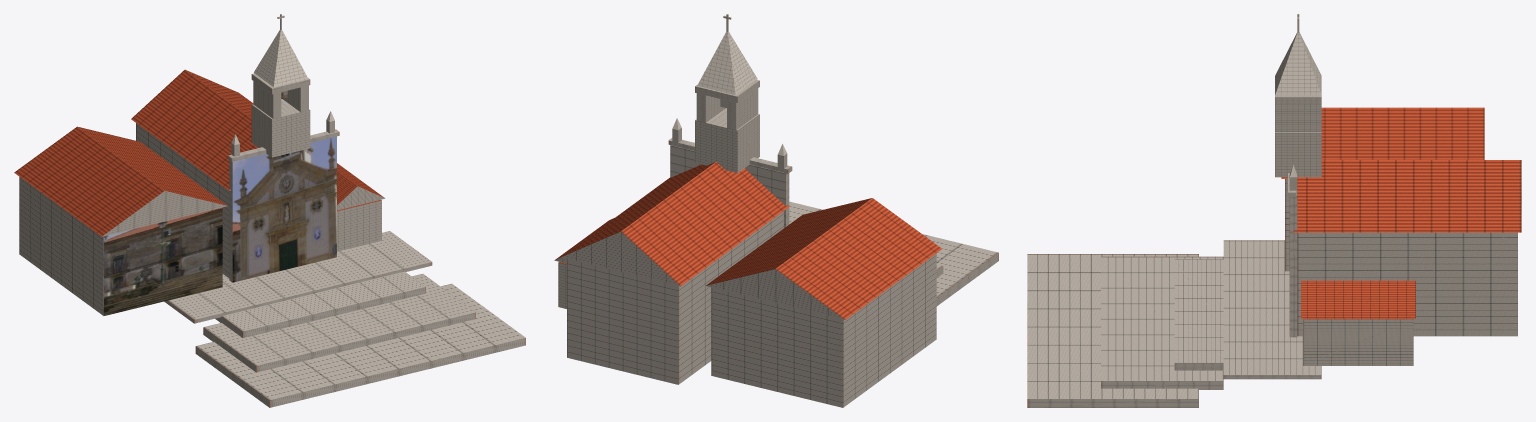
The model's file is santuario_sanfins.glb.
3 renders of one model, left to right at view 1: azimuth 30°, elevation 25°; view 2: azimuth 150°, elevation 25°; view 3: azimuth 270°, elevation 25°, orthographic. The views are drawn at different scales.
Parts seen in each view (by area): view 1: SantuarioSanfinsPBR; view 2: SantuarioSanfinsPBR; view 3: SantuarioSanfinsPBR.
Boxes of the visible parts, <box> form: SantuarioSanfinsPBR: <box>14,14,525,407</box>; SantuarioSanfinsPBR: <box>554,14,998,407</box>; SantuarioSanfinsPBR: <box>1027,14,1521,407</box>.
Size of the model in its own units: 34.4 by 28.9 by 40.3.
Materials: 1 (1 with a texture image).
